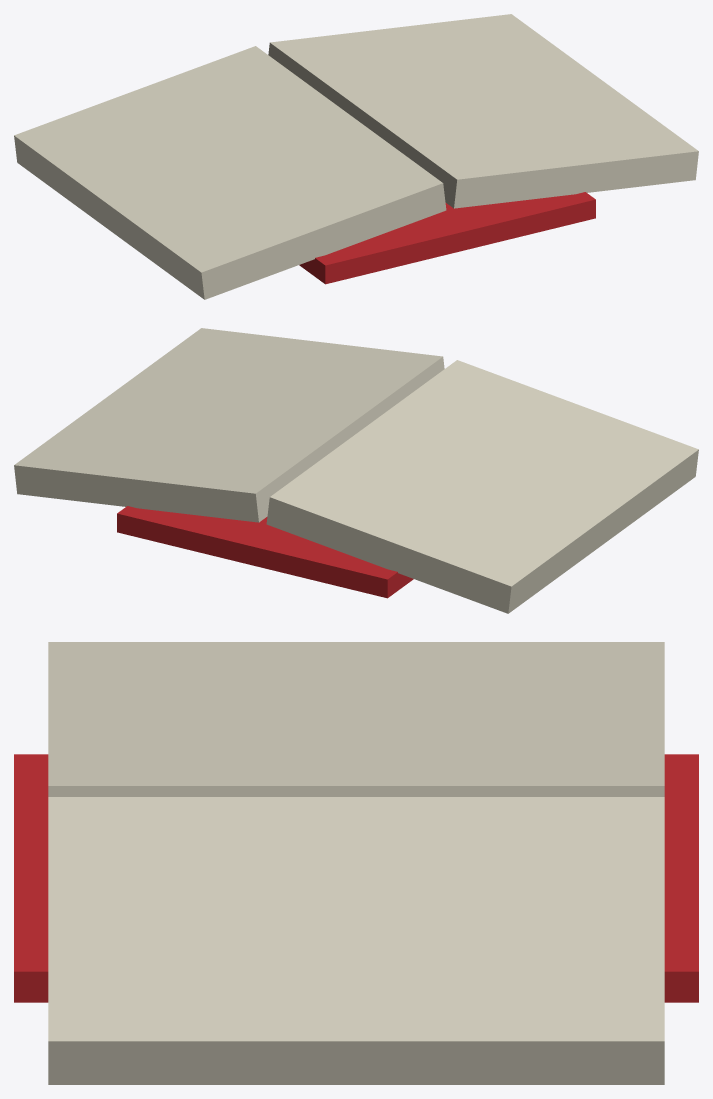
Rendered from open_book.fbx.
3 views of the same model, one above another, from view 1: azimuth 30°, elevation 25°; view 2: azimuth 150°, elevation 25°; view 3: azimuth 270°, elevation 25° (orthographic). The views are drawn at different scales.
Visible parts, largest first — view 1: open_book; view 2: open_book; view 3: open_book.
Part boxes in pixels (left/top/right/bottom): open_book: left=14, top=14, right=698, bottom=299; open_book: left=14, top=328, right=698, bottom=613; open_book: left=14, top=642, right=698, bottom=1084.
Size of the model in its own units: 0.5516 by 0.0661 by 0.4.
